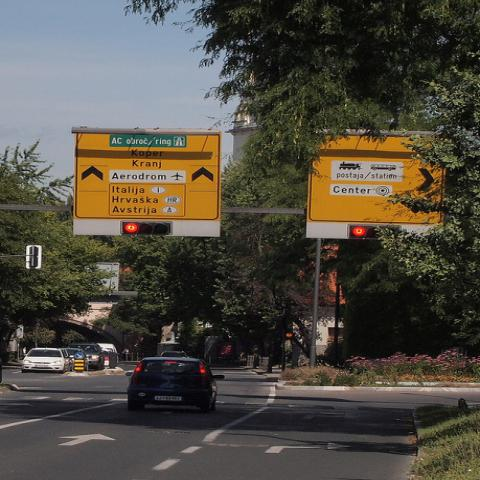car: (124, 358, 223, 412), (21, 348, 68, 374), (70, 344, 100, 366), (64, 350, 75, 372), (161, 350, 189, 357), (60, 348, 84, 356), (103, 352, 110, 368)
